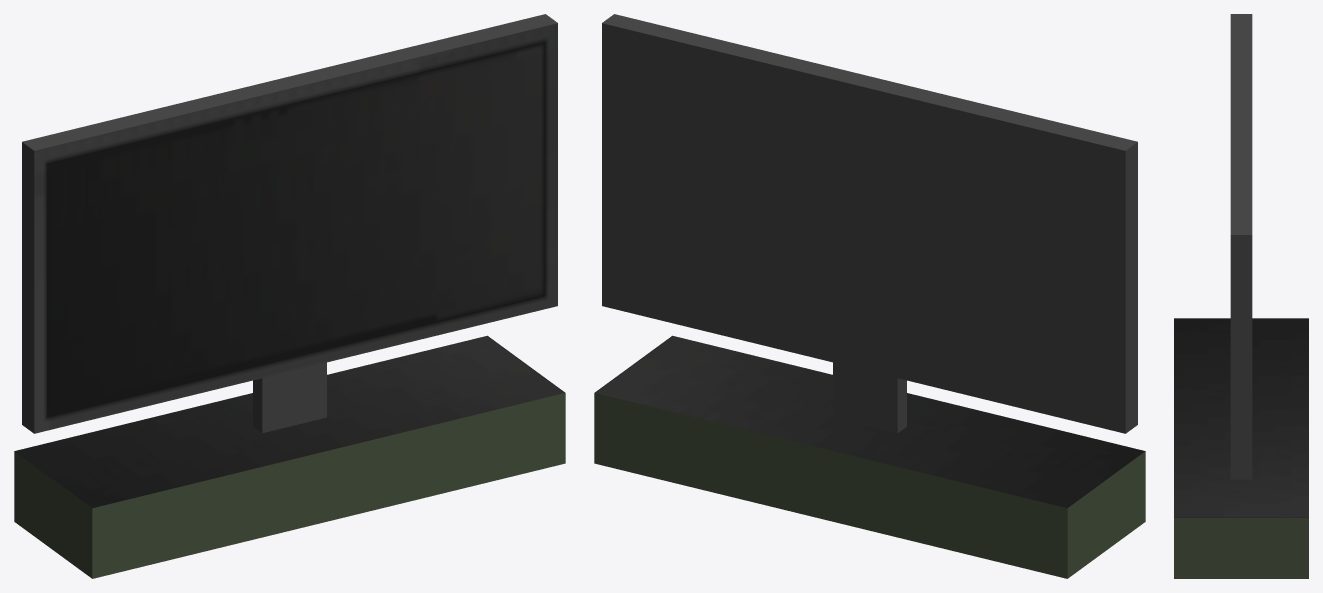
File: Building_FlatscreenTelevision.obj
The picture shows the model from 3 angles, left to right: view 1: azimuth 30°, elevation 25°; view 2: azimuth 150°, elevation 25°; view 3: azimuth 270°, elevation 25°; orthographic projection. The views are drawn at different scales.
Visible parts, largest first — view 1: Body; view 2: Body; view 3: Body.
Part boxes in pixels (x1,y1,x2,y2): Body: (14, 14, 565, 578); Body: (594, 14, 1145, 578); Body: (1174, 14, 1308, 578).
Size of the model in its own units: 1.94 by 1.45 by 0.5.
Materials: 1 (1 with a texture image).
